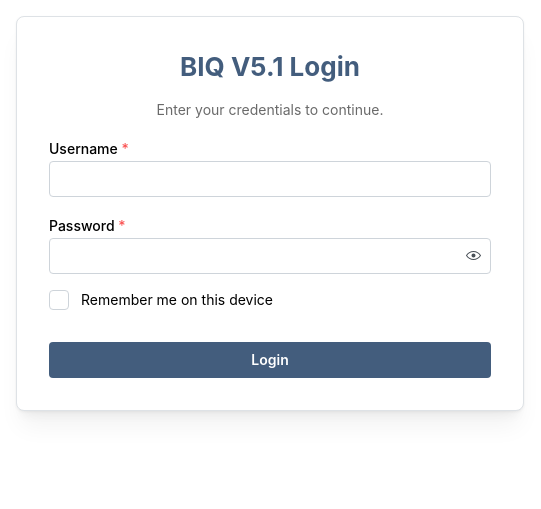
LoginPage › renders server error alert on failed login
Type "x" into the field labelled "Username *" at (270, 179), box [49,161,491,197]
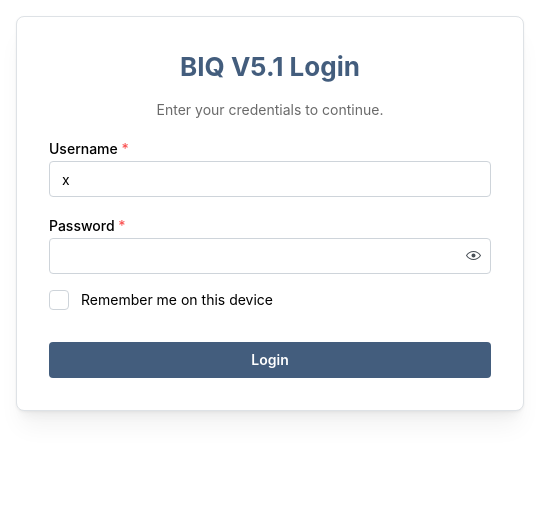
Type "y" into the password field labelled "Password *" at (270, 256), box [50,239,490,273]
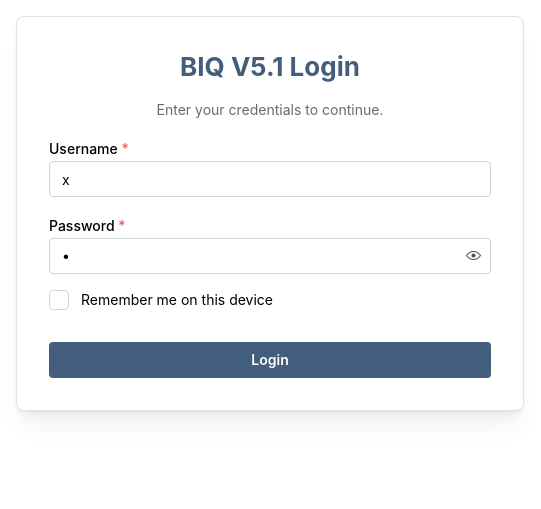
Submit the form named "login form", box [49,49,491,378]
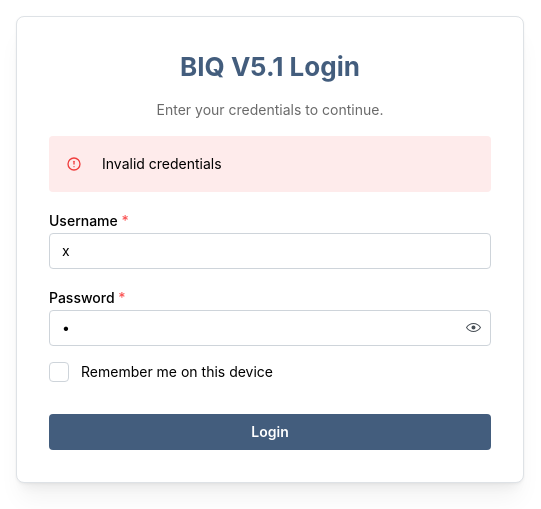
Check: the text "Invalid credentials" is shown, box [102,155,222,172]
